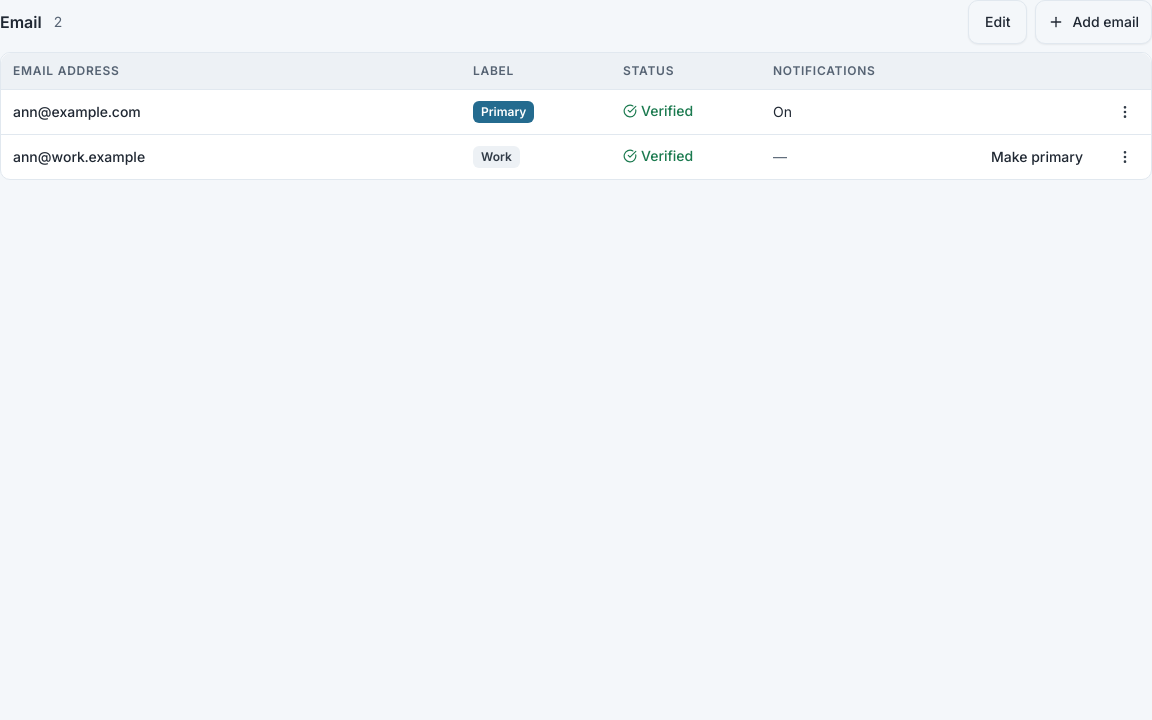
Test: EmailSection: Make primary confirm and send (Story 3.6) › the kebab's Make primary opens the same confirm; Cancel returns focus to the kebab
Press Enter in the button named "More actions for ann@work.example", box [1103,134,1147,178]
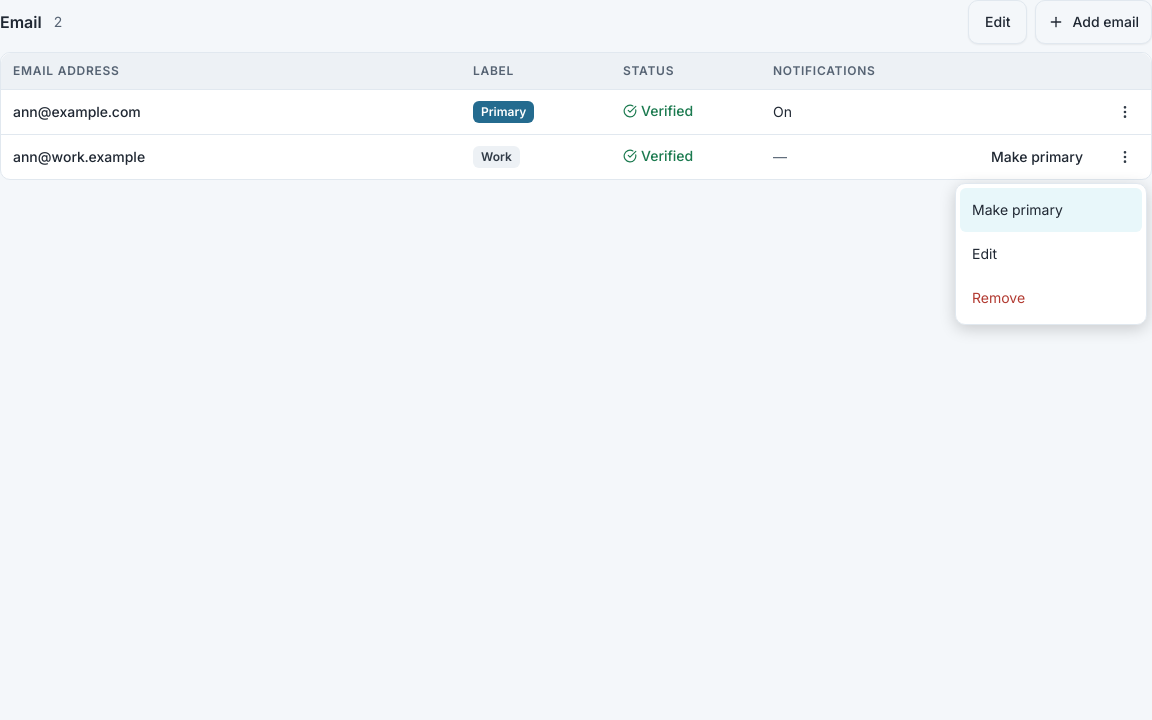
Click the menu item "Make primary". click: (1051, 210)
box: [960,188,1142,232]
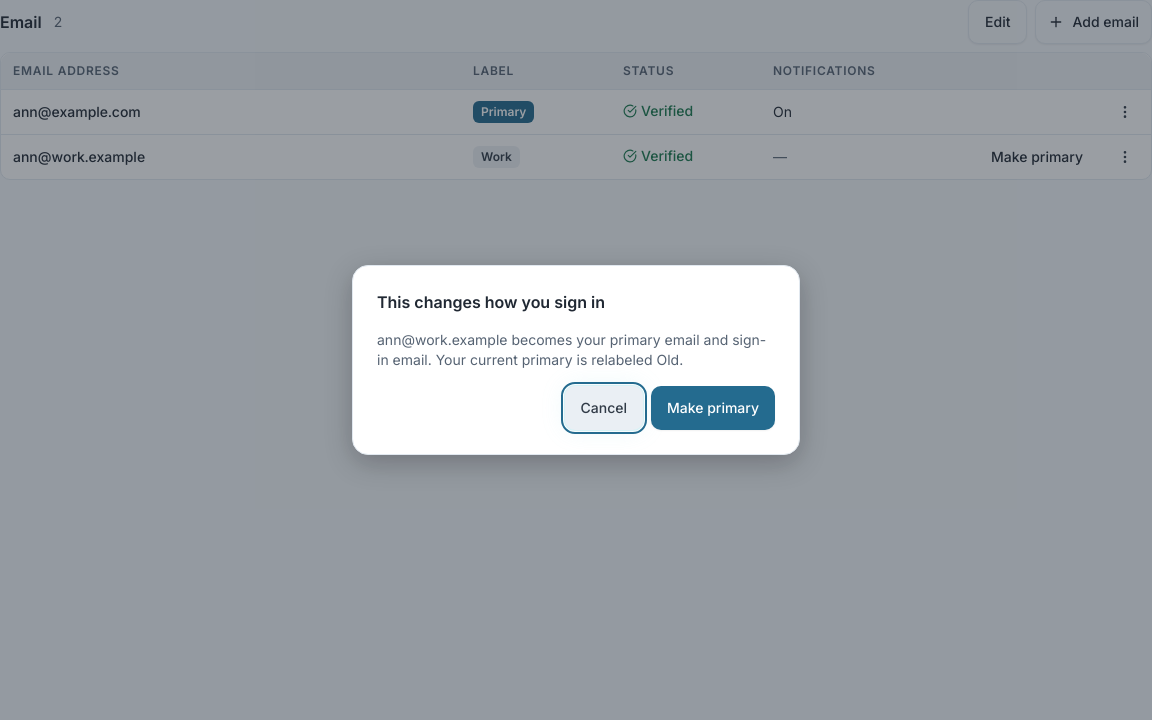
Result: the dialog is shown at [352,265,800,455]
Click the button "Cancel". click: (604, 408)
box: [564,386,643,430]
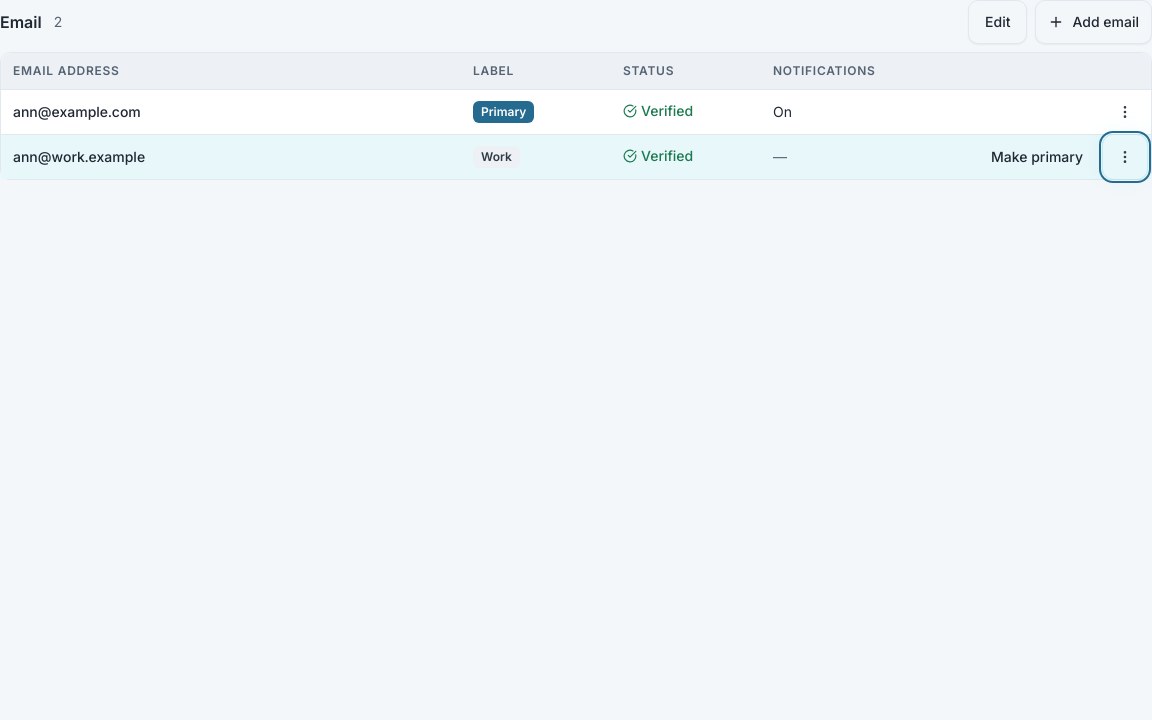
Result: the dialog is gone
